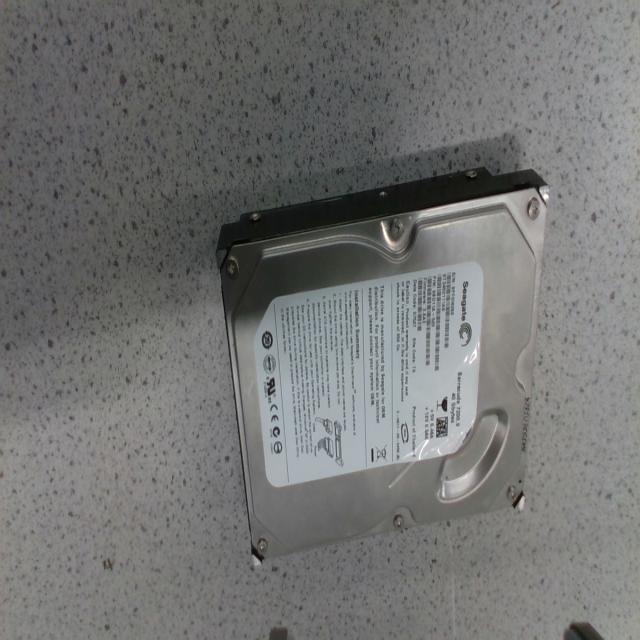case: (216, 167, 545, 268)
label: (254, 262, 484, 486)
lid: (219, 189, 546, 558)
screw: (224, 256, 238, 277), (527, 197, 540, 219), (390, 220, 403, 239), (256, 537, 268, 556), (507, 484, 517, 503), (394, 514, 404, 529)
